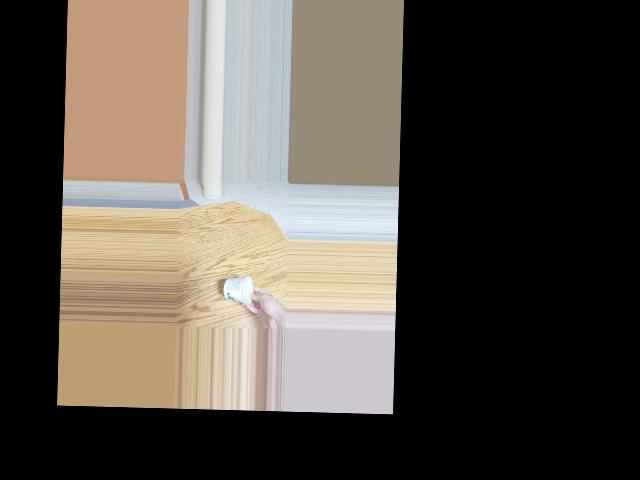cotage: (227, 272, 253, 305)
